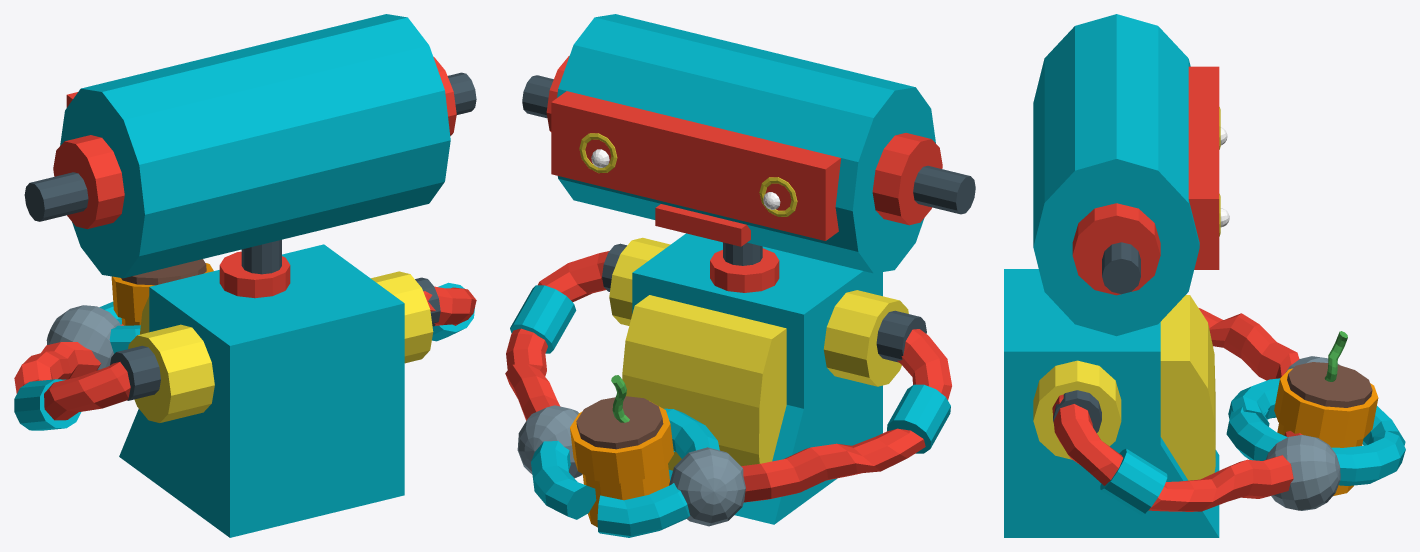
The model's file is robot.glb.
3 renders of one model, left to right at view 1: azimuth 30°, elevation 25°; view 2: azimuth 150°, elevation 25°; view 3: azimuth 270°, elevation 25°, orthographic. The views are drawn at different scales.
Parts seen in each view (by area): view 1: group1310801303, group636773002, group1805839121, group1790726983, group1241256124, group1082264504, group61033808, group1217278726, group1587455961, group1498630432, group1607887809, group185576617 (+7 smaller); view 2: group1310801303, group496844763, group636773002, group1830769841, group1805839121, group1790726983, group185576617, group942744874, group61033808, group1241256124, group289474198, group1912181242 (+14 smaller); view 3: group1310801303, group636773002, group1830769841, group185576617, group496844763, group1924387820, group1445370221, group1082264504, group289474198, group1811930119, group1805839121, group1912181242 (+5 smaller).
Part boxes in pixels (bbox=[...]): group1310801303: bbox=[60, 14, 450, 278]; group636773002: bbox=[119, 244, 404, 537]; group1805839121: bbox=[14, 324, 130, 420]; group1790726983: bbox=[128, 324, 214, 422]; group1241256124: bbox=[53, 135, 124, 229]; group1082264504: bbox=[371, 271, 433, 363]; group61033808: bbox=[46, 305, 120, 370]; group1217278726: bbox=[24, 172, 88, 221]; group1587455961: bbox=[219, 251, 290, 298]; group1498630432: bbox=[14, 379, 81, 430]; group1607887809: bbox=[110, 345, 160, 400]; group185576617: bbox=[423, 286, 476, 325]; group1310801303: bbox=[557, 14, 935, 273]; group496844763: bbox=[551, 91, 840, 240]; group636773002: bbox=[632, 233, 882, 524]; group1830769841: bbox=[622, 295, 786, 470]; group1805839121: bbox=[741, 329, 951, 502]; group1790726983: bbox=[823, 290, 908, 386]; group185576617: bbox=[505, 251, 609, 420]; group942744874: bbox=[597, 408, 719, 537]; group61033808: bbox=[669, 447, 745, 526]; group1241256124: bbox=[872, 133, 942, 225]; group289474198: bbox=[570, 401, 673, 483]; group1912181242: bbox=[576, 396, 663, 449]; group1310801303: bbox=[1033, 14, 1199, 336]; group636773002: bbox=[1004, 269, 1219, 537]; group1830769841: bbox=[1160, 295, 1215, 480]; group185576617: bbox=[1052, 394, 1302, 511]; group496844763: bbox=[1188, 66, 1219, 269]; group1924387820: bbox=[1072, 203, 1160, 295]; group1445370221: bbox=[1226, 403, 1405, 485]; group1082264504: bbox=[1033, 360, 1121, 459]; group289474198: bbox=[1274, 368, 1378, 442]; group1811930119: bbox=[1266, 435, 1340, 510]; group1805839121: bbox=[1199, 308, 1299, 380]; group1912181242: bbox=[1287, 362, 1372, 407].
Bounding box in the file's own units: 0.5057 × 0.46 × 0.4106.
